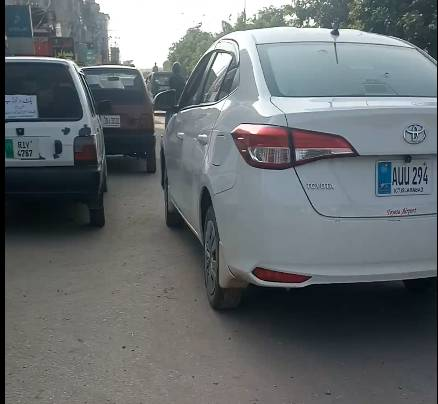number_plate: (373, 158, 437, 200), (4, 137, 42, 161)
